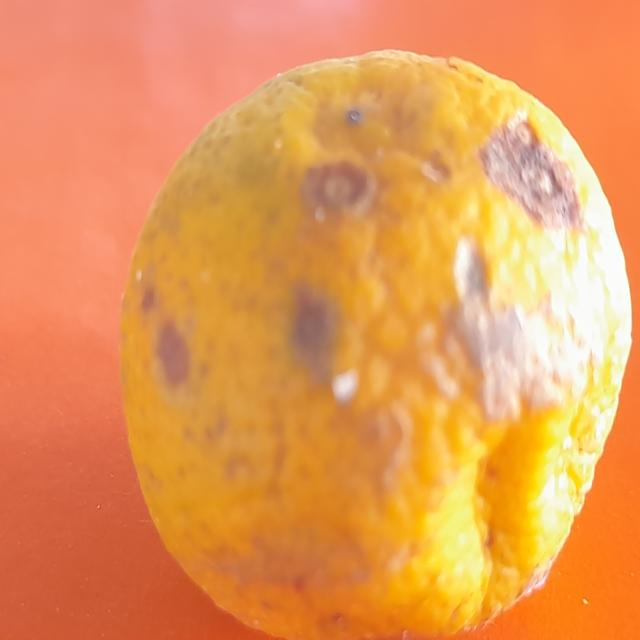black spot: (111, 58, 640, 638)
